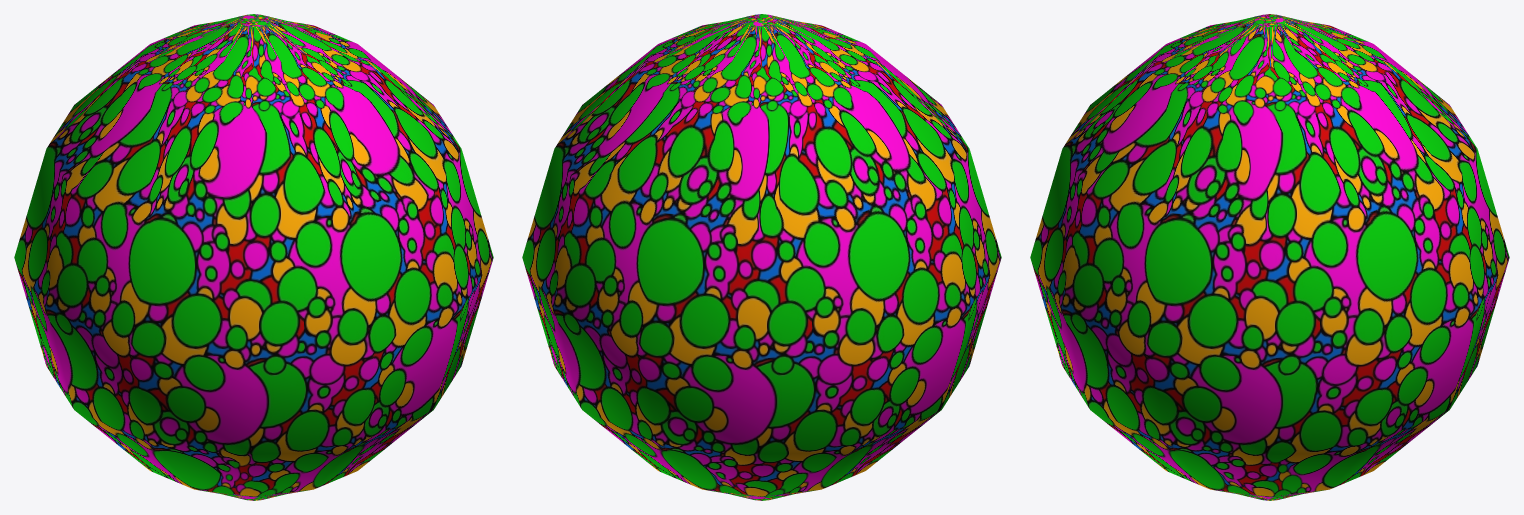
Rendered from ENVI_Abstract01.obj.
The picture shows the model from 3 angles, left to right: view 1: azimuth 30°, elevation 25°; view 2: azimuth 150°, elevation 25°; view 3: azimuth 270°, elevation 25°; orthographic projection.
Visible parts, largest first — view 1: Ball01_ENVI_Abstract01.Ball01; view 2: Ball01_ENVI_Abstract01.Ball01; view 3: Ball01_ENVI_Abstract01.Ball01.
Boxes of the visible parts, x1=… form: Ball01_ENVI_Abstract01.Ball01: x1=14, y1=14, x2=493, y2=500; Ball01_ENVI_Abstract01.Ball01: x1=522, y1=14, x2=1001, y2=500; Ball01_ENVI_Abstract01.Ball01: x1=1030, y1=14, x2=1509, y2=500.
Bounding box in the file's own units: 44 × 47.98 × 44.
Materials: 5 (5 with a texture image).
